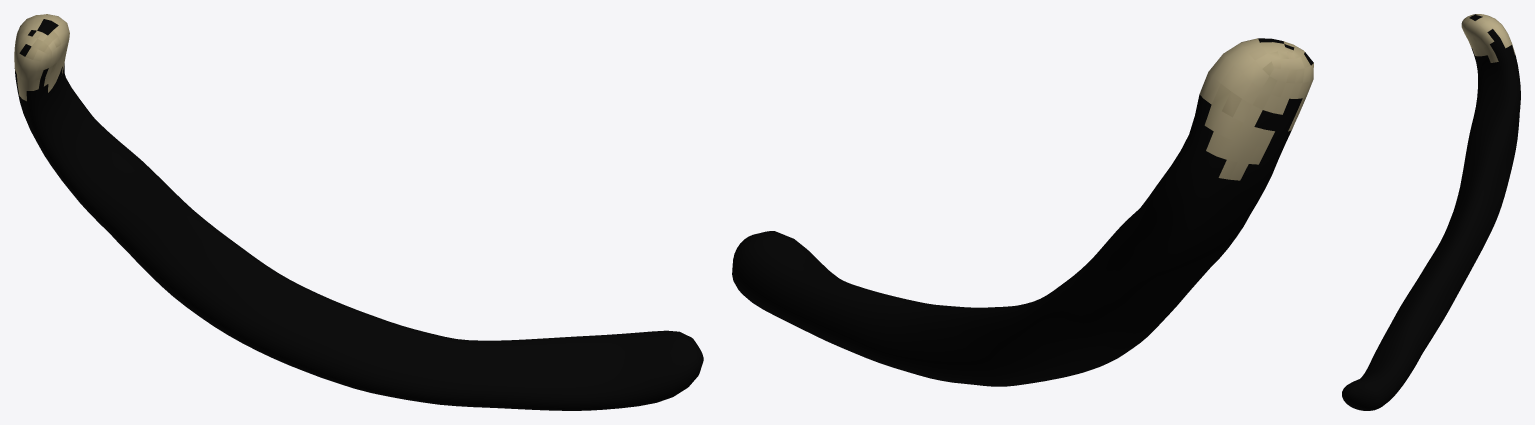
3 renders of one model, left to right at view 1: azimuth 30°, elevation 25°; view 2: azimuth 150°, elevation 25°; view 3: azimuth 270°, elevation 25°, orthographic. The views are drawn at different scales.
Parts seen in each view (by area): view 1: CC R05; view 2: CC R05; view 3: CC R05.
Boxes of the visible parts, x1=… form: CC R05: x1=14, y1=14, x2=703, y2=410; CC R05: x1=732, y1=38, x2=1313, y2=386; CC R05: x1=1342, y1=14, x2=1520, y2=410.
Bounding box in the file's own units: 11.26 × 7.86 × 5.15.
